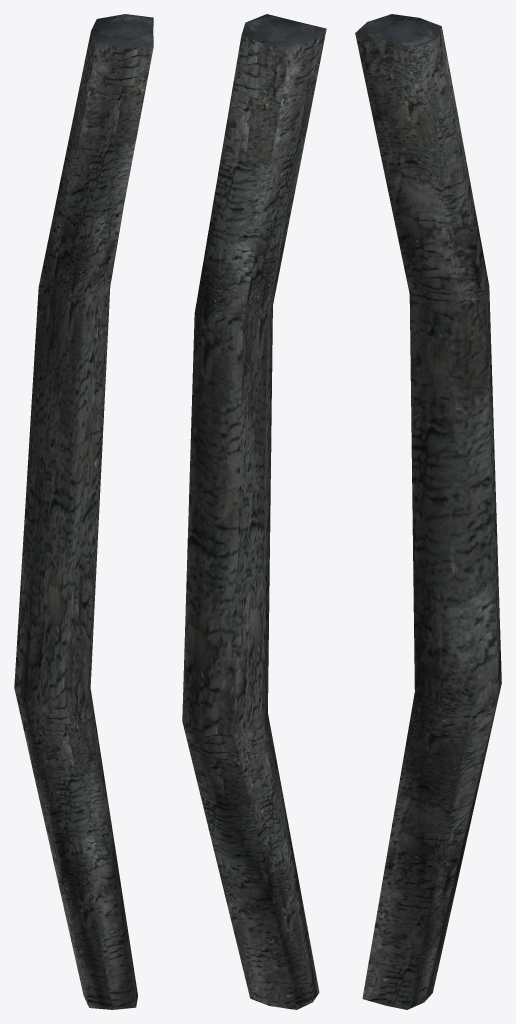
File: prop_wood_debris_big_burnt_03.glb
The picture shows the model from 3 angles, left to right: view 1: azimuth 90°, elevation 25°; view 2: azimuth 150°, elevation 25°; view 3: azimuth 330°, elevation 25°; orthographic projection.
Size of the model in its own units: 13.71 by 128 by 16.8.
Materials: 2 (2 with a texture image).
